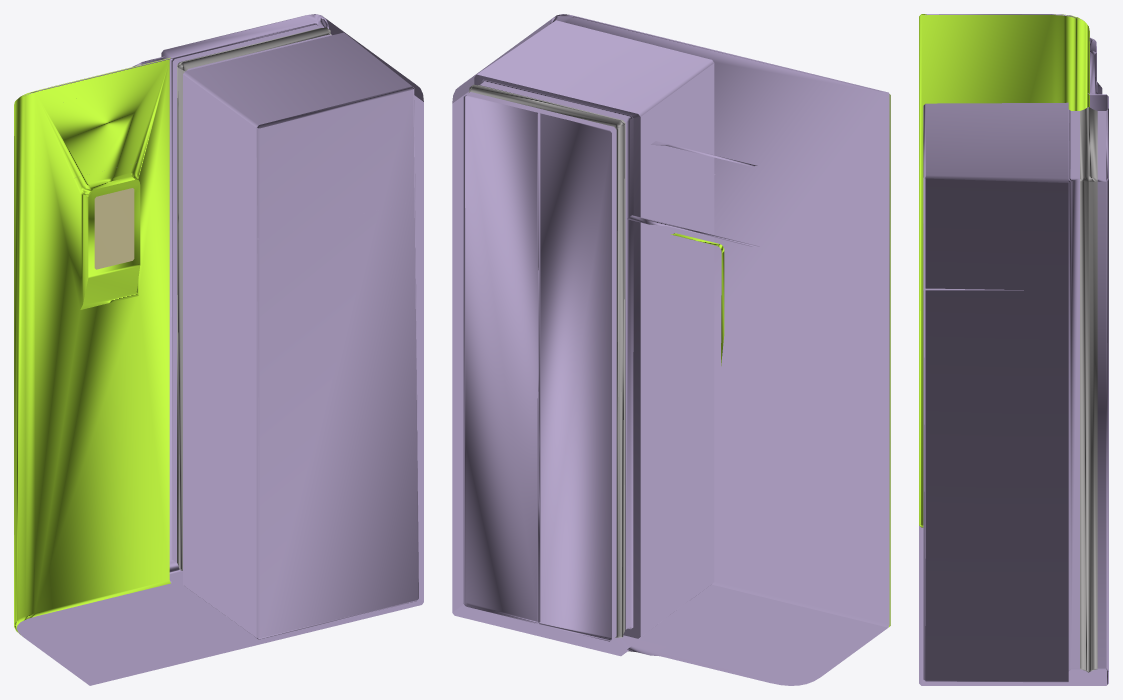
File: locker_spacesuit_1_a.glb
The picture shows the model from 3 angles, left to right: view 1: azimuth 30°, elevation 25°; view 2: azimuth 150°, elevation 25°; view 3: azimuth 270°, elevation 25°; orthographic projection. The views are drawn at different scales.
Size of the model in its own units: 1.5 by 2.25 by 0.7503.
